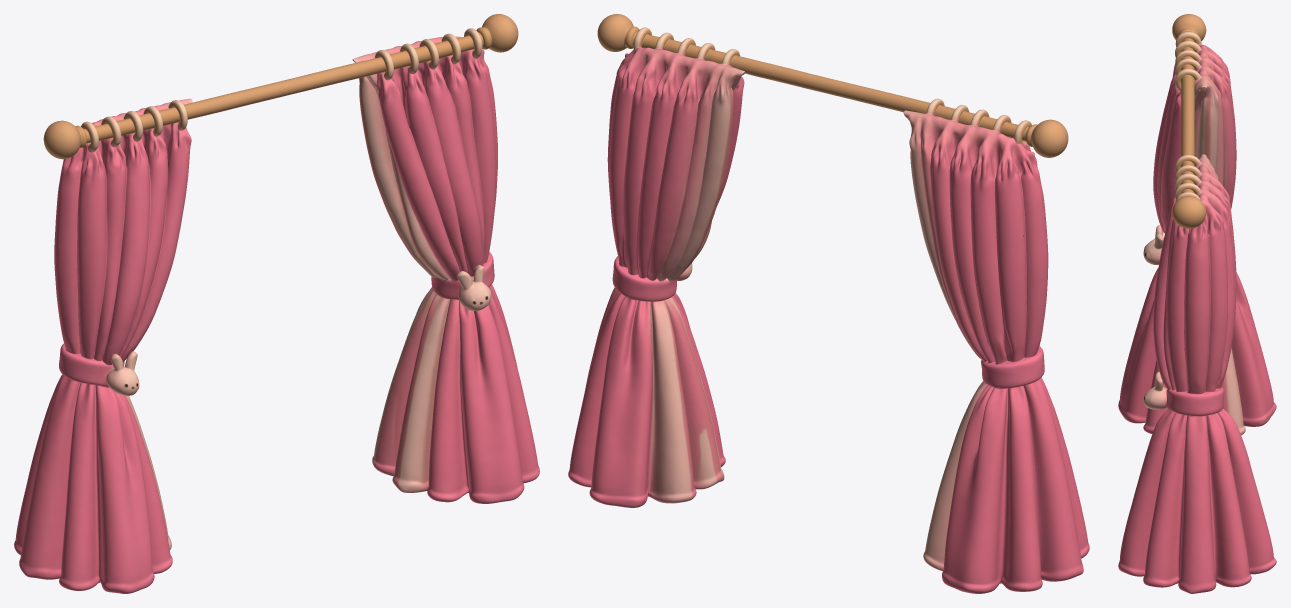
File: Curtain.fbx
3 views of the same model, side by side, from view 1: azimuth 30°, elevation 25°; view 2: azimuth 150°, elevation 25°; view 3: azimuth 270°, elevation 25° (orthographic). The views are drawn at different scales.
Parts seen in each view (by area): view 1: cute pink curtain 3d model; view 2: cute pink curtain 3d model; view 3: cute pink curtain 3d model.
Boxes of the visible parts, left/top/right/bottom form: cute pink curtain 3d model: left=14, top=14, right=539, bottom=593; cute pink curtain 3d model: left=568, top=14, right=1089, bottom=593; cute pink curtain 3d model: left=1118, top=14, right=1276, bottom=593.
Size of the model in its own units: 1 by 0.849 by 0.3153.
1 material, 1 textured.
